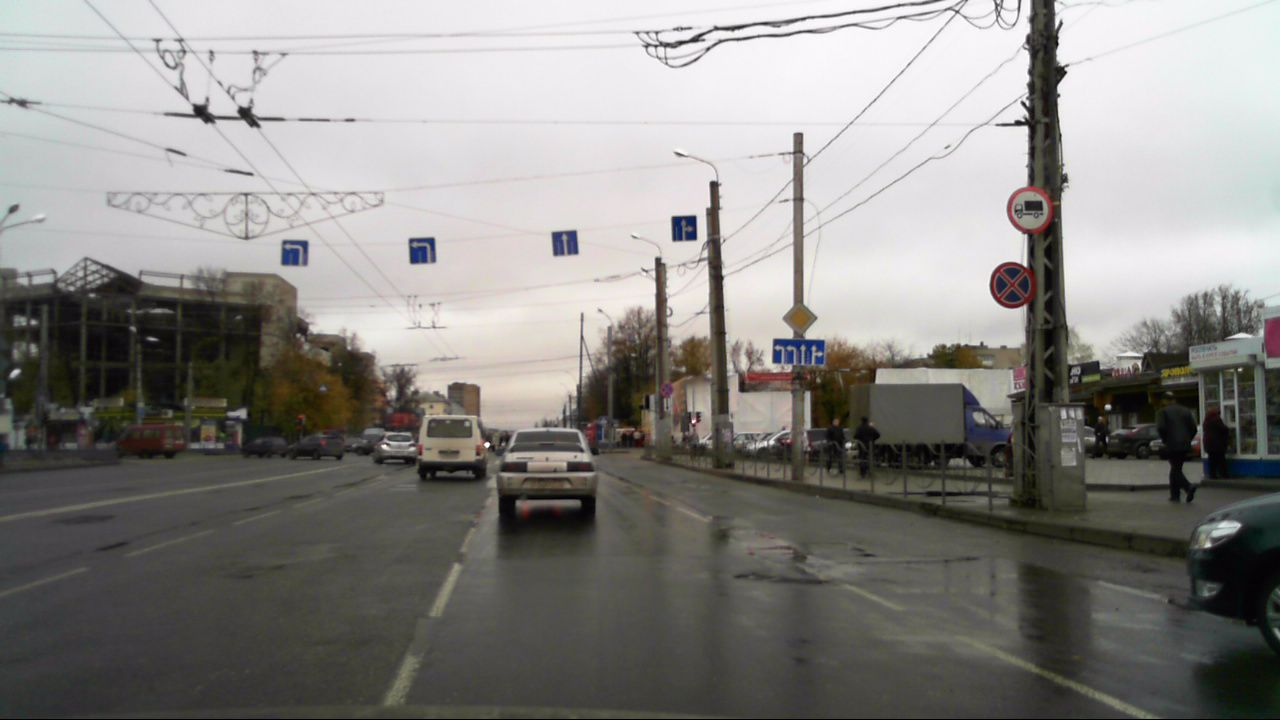No Parking: (989, 261, 1035, 309)
